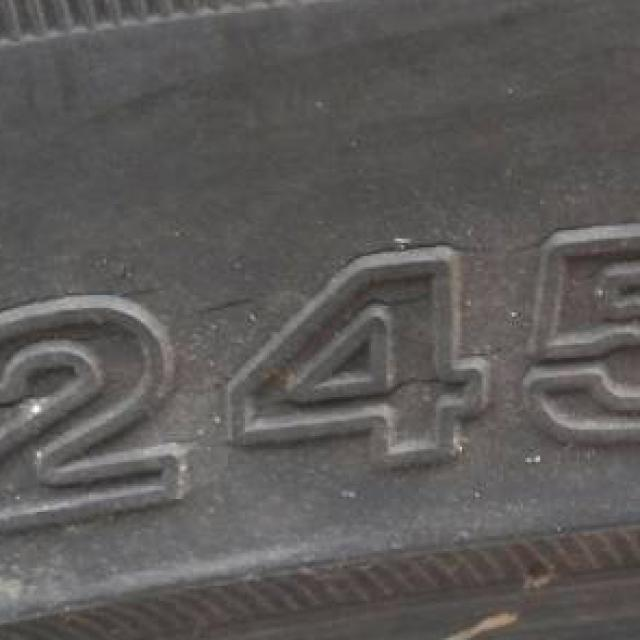Cracks: (14, 258, 268, 330)
Non-defective: (0, 0, 638, 158)
